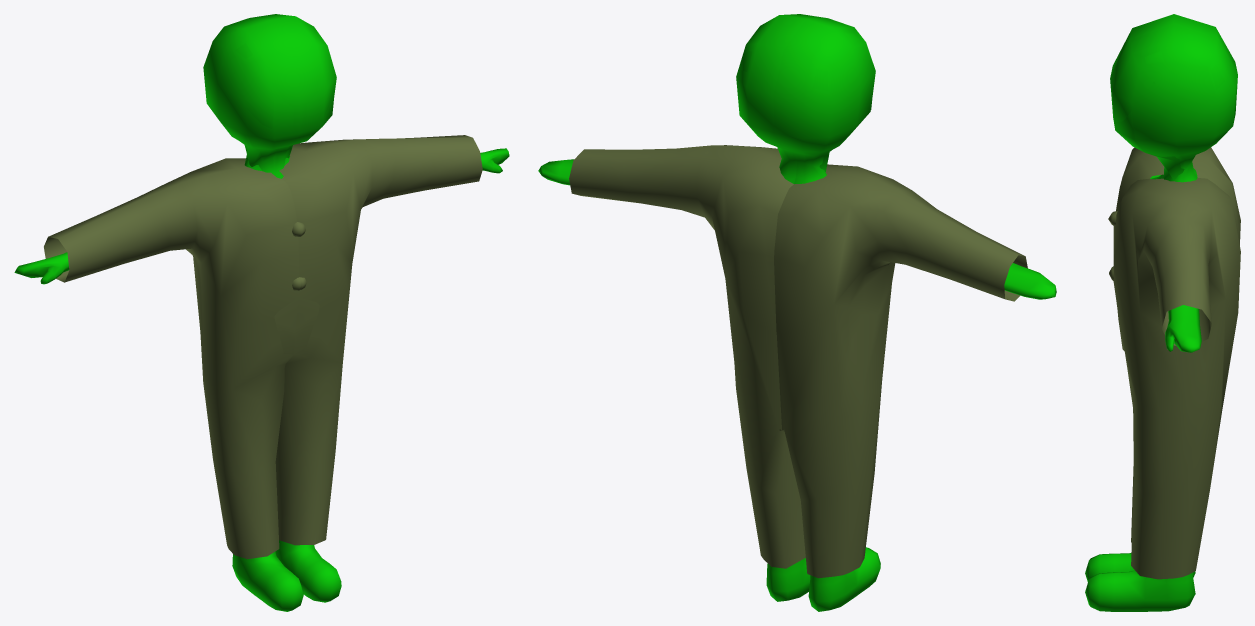
Rendered from asker8.fbx.
3 renders of one model, left to right at view 1: azimuth 30°, elevation 25°; view 2: azimuth 150°, elevation 25°; view 3: azimuth 270°, elevation 25°, orthographic. The views are drawn at different scales.
Visible parts, largest first — view 1: character; view 2: character; view 3: character.
Boxes of the visible parts, bbox=[...] form: character: bbox=[14, 14, 509, 611]; character: bbox=[538, 14, 1056, 611]; character: bbox=[1085, 14, 1240, 611].
Size of the model in its own units: 1056 by 1146 by 281.
